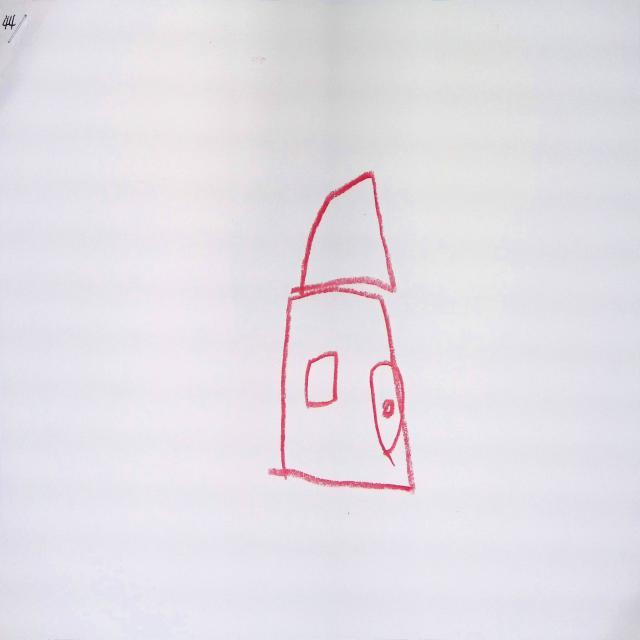door: (361, 357, 407, 461)
house: (283, 172, 412, 490)
roof: (294, 168, 403, 298)
wall: (273, 289, 414, 491)
window: (300, 344, 341, 415)
